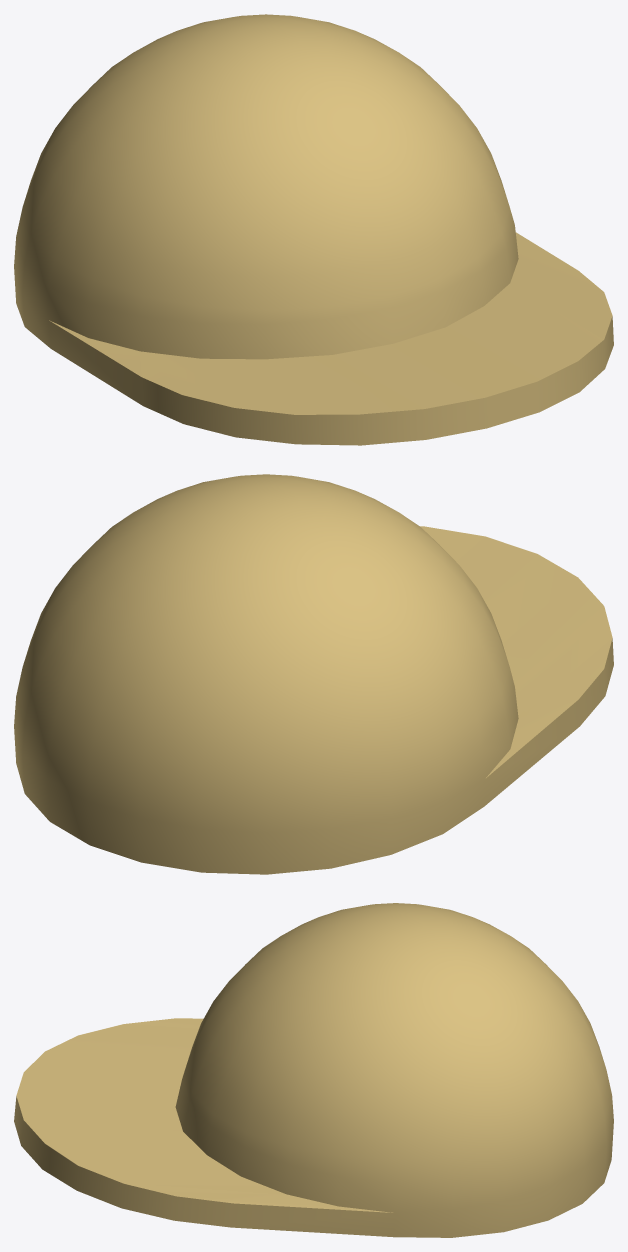
The model's file is cap.fbx.
The picture shows the model from 3 angles, top to bottom: view 1: azimuth 30°, elevation 25°; view 2: azimuth 150°, elevation 25°; view 3: azimuth 270°, elevation 25°; orthographic projection. The views are drawn at different scales.
Visible parts, largest first — view 1: part; view 2: part; view 3: part.
Part boxes in pixels (x1=…): part: x1=14, y1=14, x2=613, y2=445; part: x1=14, y1=474, x2=613, y2=874; part: x1=14, y1=903, x2=613, y2=1237.
Size of the model in its own units: 1200 by 718 by 1650.
